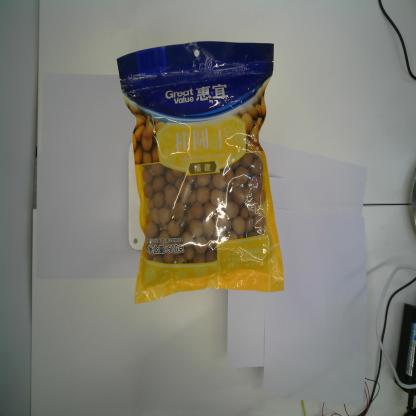Dried Food: (115, 39, 286, 306)
